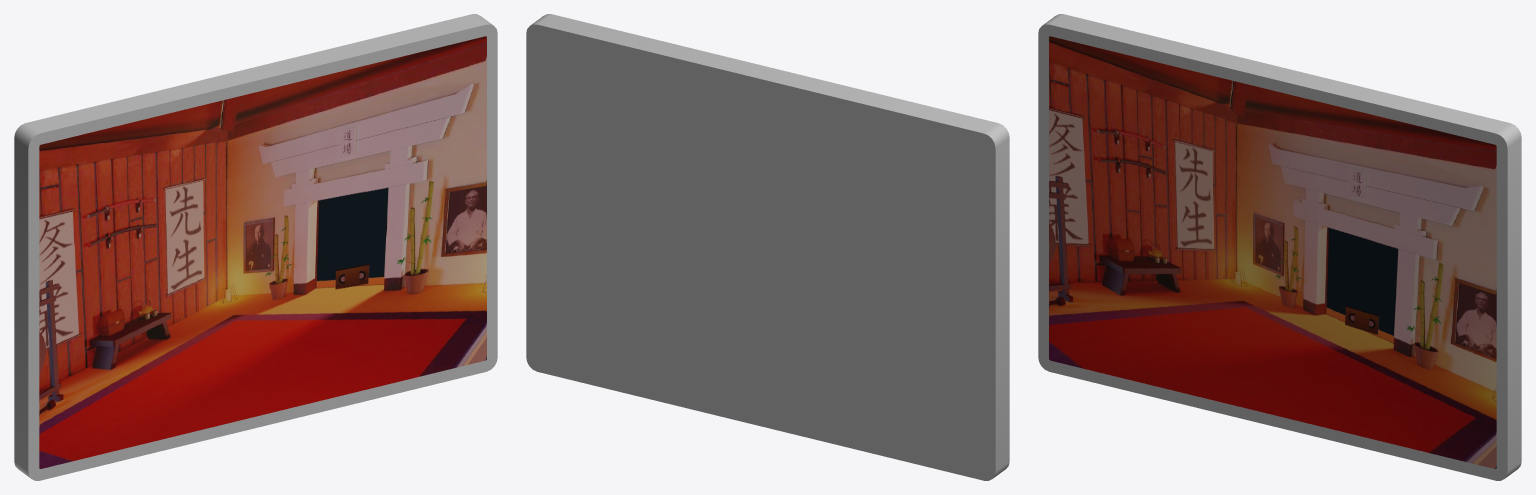
The model's file is tile4.glb.
The picture shows the model from 3 angles, left to right: view 1: azimuth 30°, elevation 25°; view 2: azimuth 150°, elevation 25°; view 3: azimuth 330°, elevation 25°; orthographic projection.
Visible parts, largest first — view 1: tile4; view 2: tile4; view 3: tile4.
Part boxes in pixels (<box>): tile4: <box>14,14,497,480</box>; tile4: <box>526,14,1009,480</box>; tile4: <box>1038,14,1521,480</box>.
Size of the model in its own units: 2.97 by 2.1 by 0.1566.
Materials: 2 (1 with a texture image).
